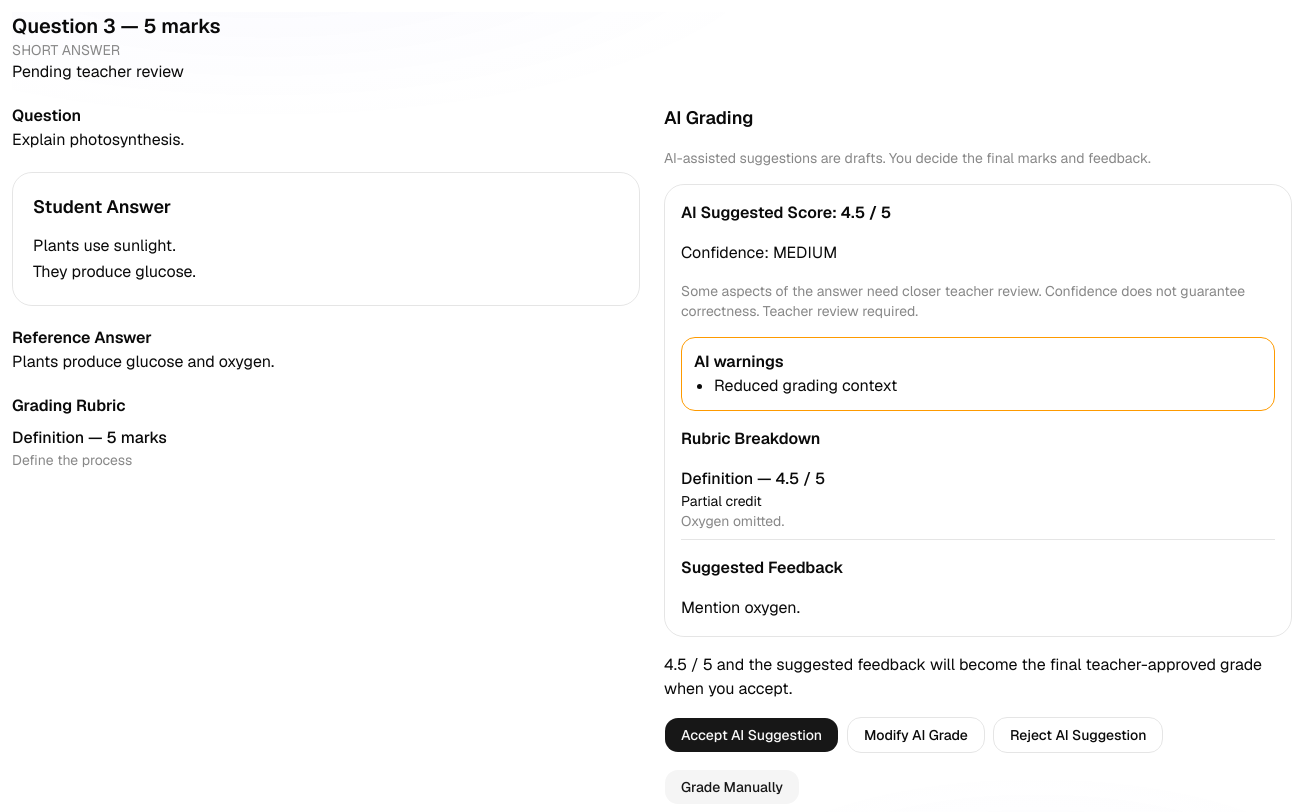
Test: teacher subjective grading › accepts AI and separates the final teacher grade
Click the button "Accept AI Suggestion": (752, 735) left=664, top=717, right=839, bottom=753
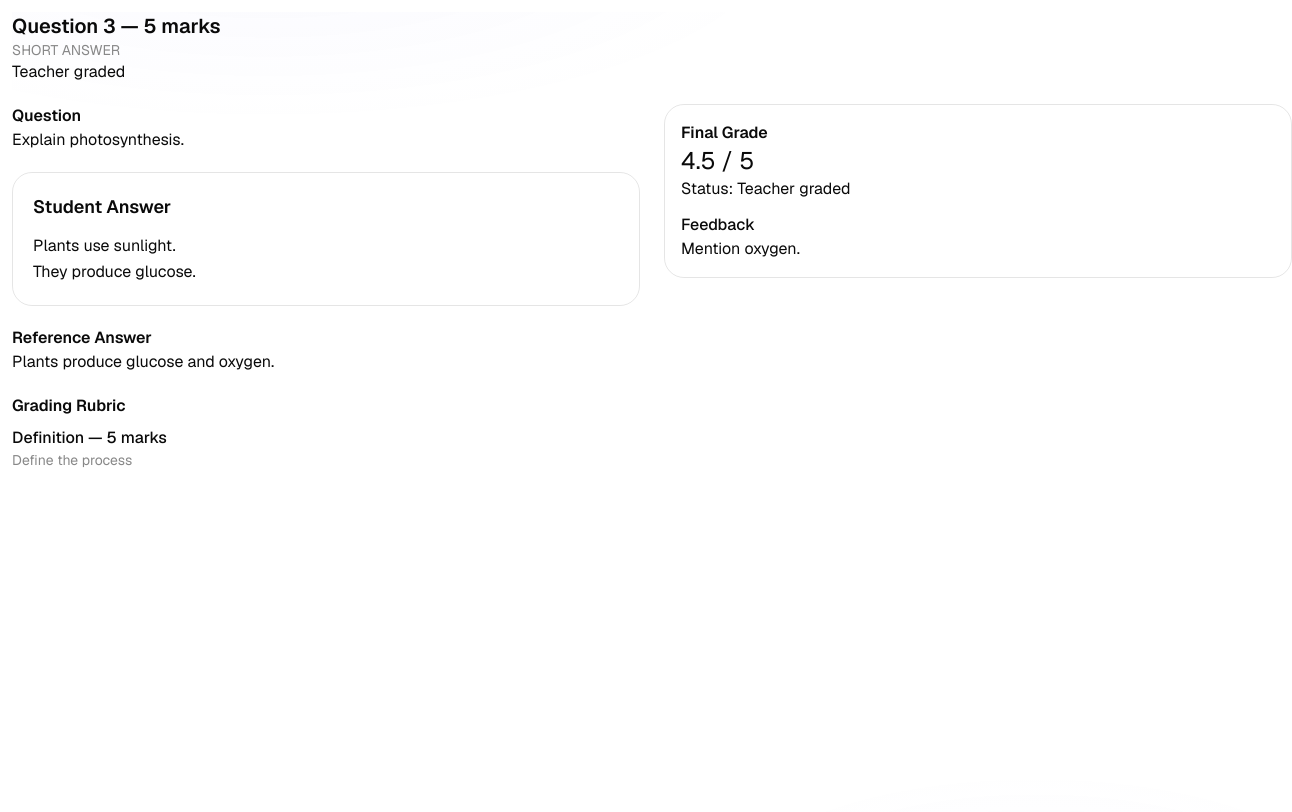
Check: the text "4.5 / 5" is shown, box left=681, top=145, right=754, bottom=176
Check: the heading "Final Grade" is shown, box left=681, top=122, right=768, bottom=143
Check: the button "Accept AI Suggestion" is gone
